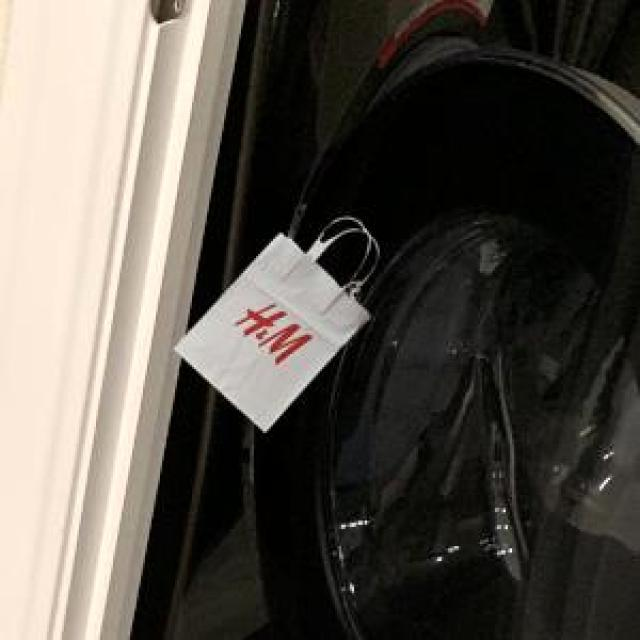Paper_Bag: (172, 231, 368, 428)
